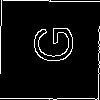G: (24, 24, 74, 64)
